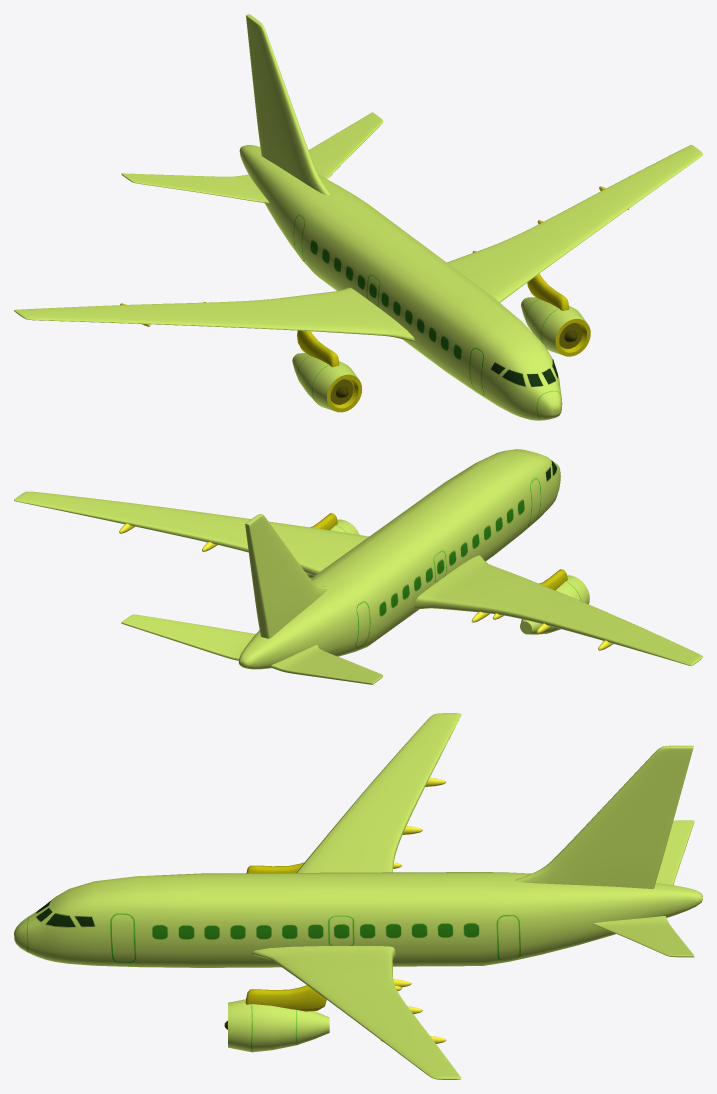
Rendered from airbus318_lemon.glb.
The picture shows the model from 3 angles, top to bottom: view 1: azimuth 30°, elevation 25°; view 2: azimuth 150°, elevation 25°; view 3: azimuth 270°, elevation 25°; orthographic projection. The views are drawn at different scales.
Visible parts, largest first — view 1: airbus318, wings, wing-back-vertical, turbine, wings-back-horizontal, turbine-pad; view 2: airbus318, wings, wing-back-vertical, wings-back-horizontal, turbine, turbine-pad; view 3: airbus318, wings, wing-back-vertical, turbine, wings-back-horizontal, turbine-pad.
Boxes of the visible parts, left/top/right/bottom form: airbus318: left=239, top=145, right=562, bottom=420; wings: left=14, top=145, right=702, bottom=341; wing-back-vertical: left=246, top=14, right=329, bottom=195; turbine: left=292, top=297, right=590, bottom=412; wings-back-horizontal: left=121, top=112, right=383, bottom=203; turbine-pad: left=297, top=273, right=569, bottom=367; airbus318: left=238, top=449, right=560, bottom=669; wings: left=14, top=491, right=702, bottom=665; wing-back-vertical: left=245, top=514, right=329, bottom=638; wings-back-horizontal: left=121, top=614, right=382, bottom=684; turbine: left=306, top=519, right=589, bottom=634; turbine-pad: left=310, top=513, right=567, bottom=590; airbus318: left=14, top=872, right=702, bottom=967; wings: left=251, top=713, right=461, bottom=1079; wing-back-vertical: left=515, top=745, right=693, bottom=888; turbine: left=224, top=999, right=329, bottom=1052; wings-back-horizontal: left=592, top=820, right=694, bottom=957; turbine-pad: left=245, top=862, right=326, bottom=1011.
Size of the model in its own units: 4.66 by 1.44 by 3.71.
1 material, 1 textured.
